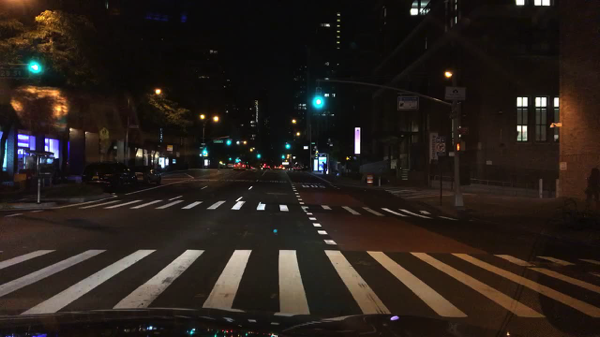car: (79, 159, 140, 192), (128, 164, 163, 186), (232, 161, 247, 171), (261, 163, 271, 170), (242, 161, 250, 169), (226, 162, 235, 169), (277, 164, 285, 170), (272, 165, 279, 169)
person: (321, 161, 328, 176)
traffic light: (30, 59, 42, 78), (314, 87, 322, 107), (455, 141, 465, 152), (226, 138, 231, 146), (256, 154, 262, 160), (201, 149, 206, 154), (285, 144, 290, 149), (280, 154, 285, 159), (235, 158, 239, 163), (228, 158, 232, 161)
traffic sign: (0, 67, 33, 80), (443, 85, 466, 101), (396, 96, 419, 111), (434, 136, 447, 157), (434, 141, 446, 153), (99, 127, 110, 140), (457, 126, 469, 134), (166, 145, 174, 151), (129, 124, 140, 128), (281, 161, 292, 165), (212, 140, 224, 143), (199, 142, 206, 146), (302, 146, 309, 150), (310, 141, 315, 145), (198, 146, 204, 149), (292, 156, 296, 160)
